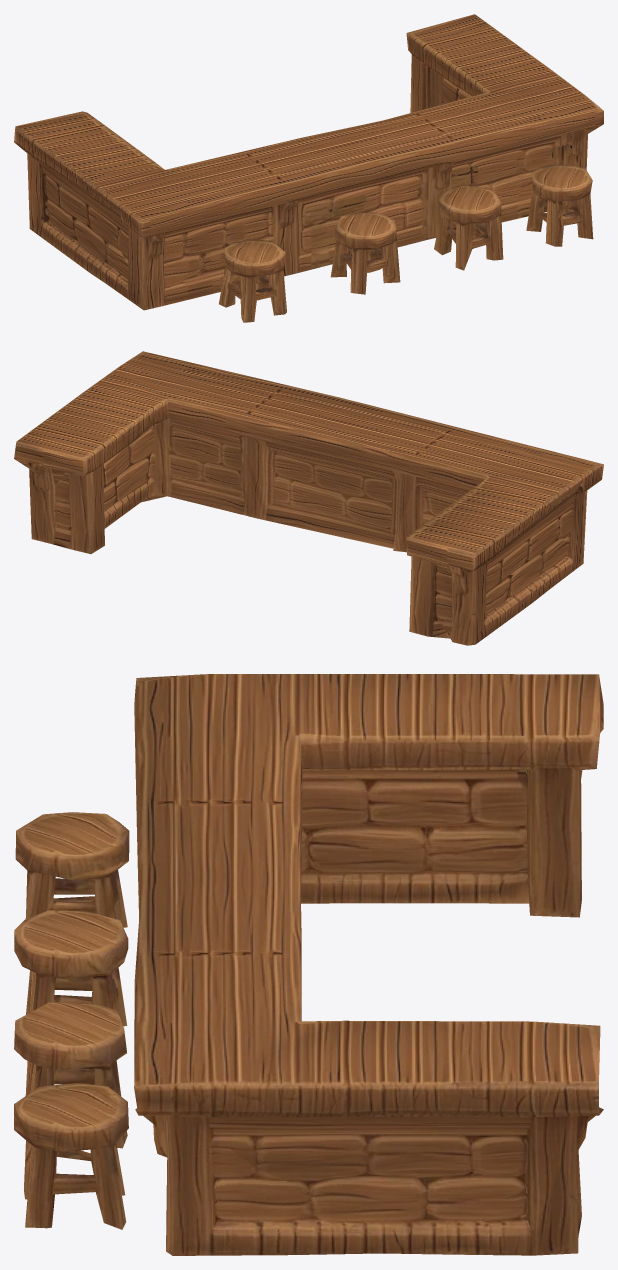
File: inn-bar.glb
3 views of the same model, one above another, from view 1: azimuth 30°, elevation 25°; view 2: azimuth 150°, elevation 25°; view 3: azimuth 270°, elevation 25° (orthographic). The views are drawn at different scales.
Visible parts, largest first — view 1: Mesh1.0; view 2: Mesh1.0; view 3: Mesh1.0.
Boxes of the visible parts, box(x1,y1,x2,y2) form: Mesh1.0: box(14, 14, 603, 322); Mesh1.0: box(14, 351, 603, 645); Mesh1.0: box(14, 674, 603, 1255).
Bounding box in the file's own units: 1.9 × 0.391 × 1.15.
1 material, 1 textured.
